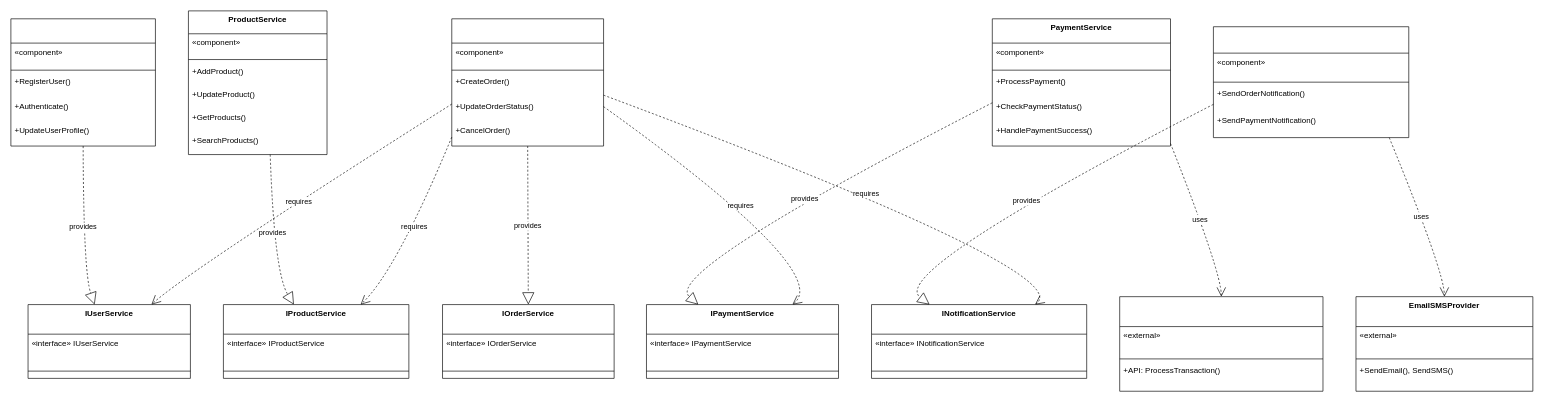
The diagram is 1544 pixels wide and 402 high, and some of its shapes have lost their labels. Here are the shapes that lost their labels. From the top down, the box of each, then its label:
(10, 18, 155, 146): UserService
(451, 18, 604, 146): OrderService
(1213, 26, 1409, 138): NotificationService
(1119, 296, 1323, 391): ExternalPaymentGateway
